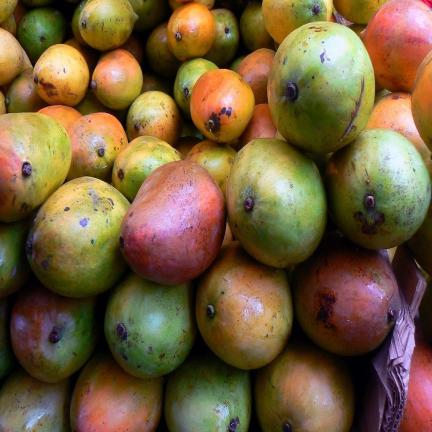mangoes: (268, 22, 375, 153), (292, 232, 401, 356), (119, 160, 226, 284), (226, 138, 327, 267), (324, 129, 431, 249), (196, 241, 293, 369), (26, 177, 129, 297), (104, 271, 197, 378), (253, 339, 355, 431), (11, 279, 100, 382), (0, 113, 71, 222), (71, 349, 163, 431), (164, 351, 252, 431), (360, 0, 431, 93), (190, 69, 255, 142), (365, 92, 431, 162), (0, 368, 73, 431), (112, 136, 181, 202), (67, 112, 127, 182), (398, 325, 431, 431), (33, 44, 89, 106), (90, 48, 143, 109), (262, 0, 332, 44), (126, 91, 183, 145), (79, 0, 138, 50), (185, 140, 236, 196), (17, 7, 67, 64), (167, 2, 215, 61), (173, 58, 218, 119), (0, 218, 30, 298), (203, 7, 240, 67), (237, 48, 275, 105), (145, 21, 182, 79), (234, 103, 277, 150), (411, 50, 431, 150), (239, 0, 275, 52), (6, 69, 47, 113), (407, 199, 431, 274), (0, 28, 31, 85), (75, 90, 126, 121), (65, 37, 102, 79), (333, 0, 388, 26), (0, 296, 17, 379), (65, 34, 99, 75), (65, 37, 99, 77), (130, 0, 170, 32), (39, 105, 81, 130), (416, 274, 431, 343), (121, 33, 145, 69), (71, 0, 89, 47), (176, 129, 202, 159), (142, 70, 172, 96), (306, 153, 331, 176), (0, 0, 17, 22), (13, 0, 28, 24), (0, 14, 16, 36), (229, 54, 246, 71), (222, 223, 234, 246), (20, 0, 55, 7), (22, 48, 32, 71), (224, 416, 240, 429), (348, 23, 365, 35), (0, 91, 6, 114)
